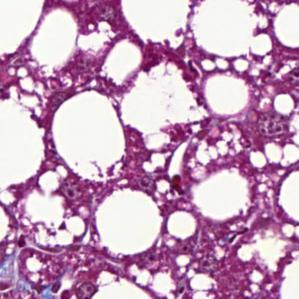steatosis: (52, 94, 126, 170), (97, 185, 164, 257)
